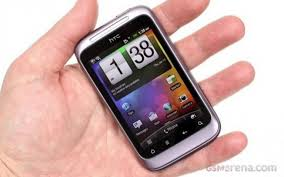htc: (70, 4, 224, 172)
